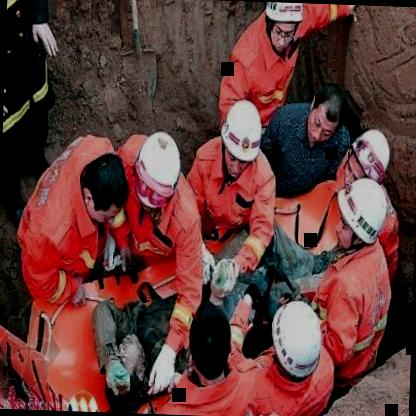head: (174, 301, 240, 385), (72, 146, 134, 232), (100, 334, 150, 406), (304, 78, 348, 149)
helmet: (322, 172, 394, 266), (266, 294, 326, 384), (218, 94, 266, 184), (130, 132, 184, 207), (340, 127, 396, 194), (260, 1, 306, 58)
